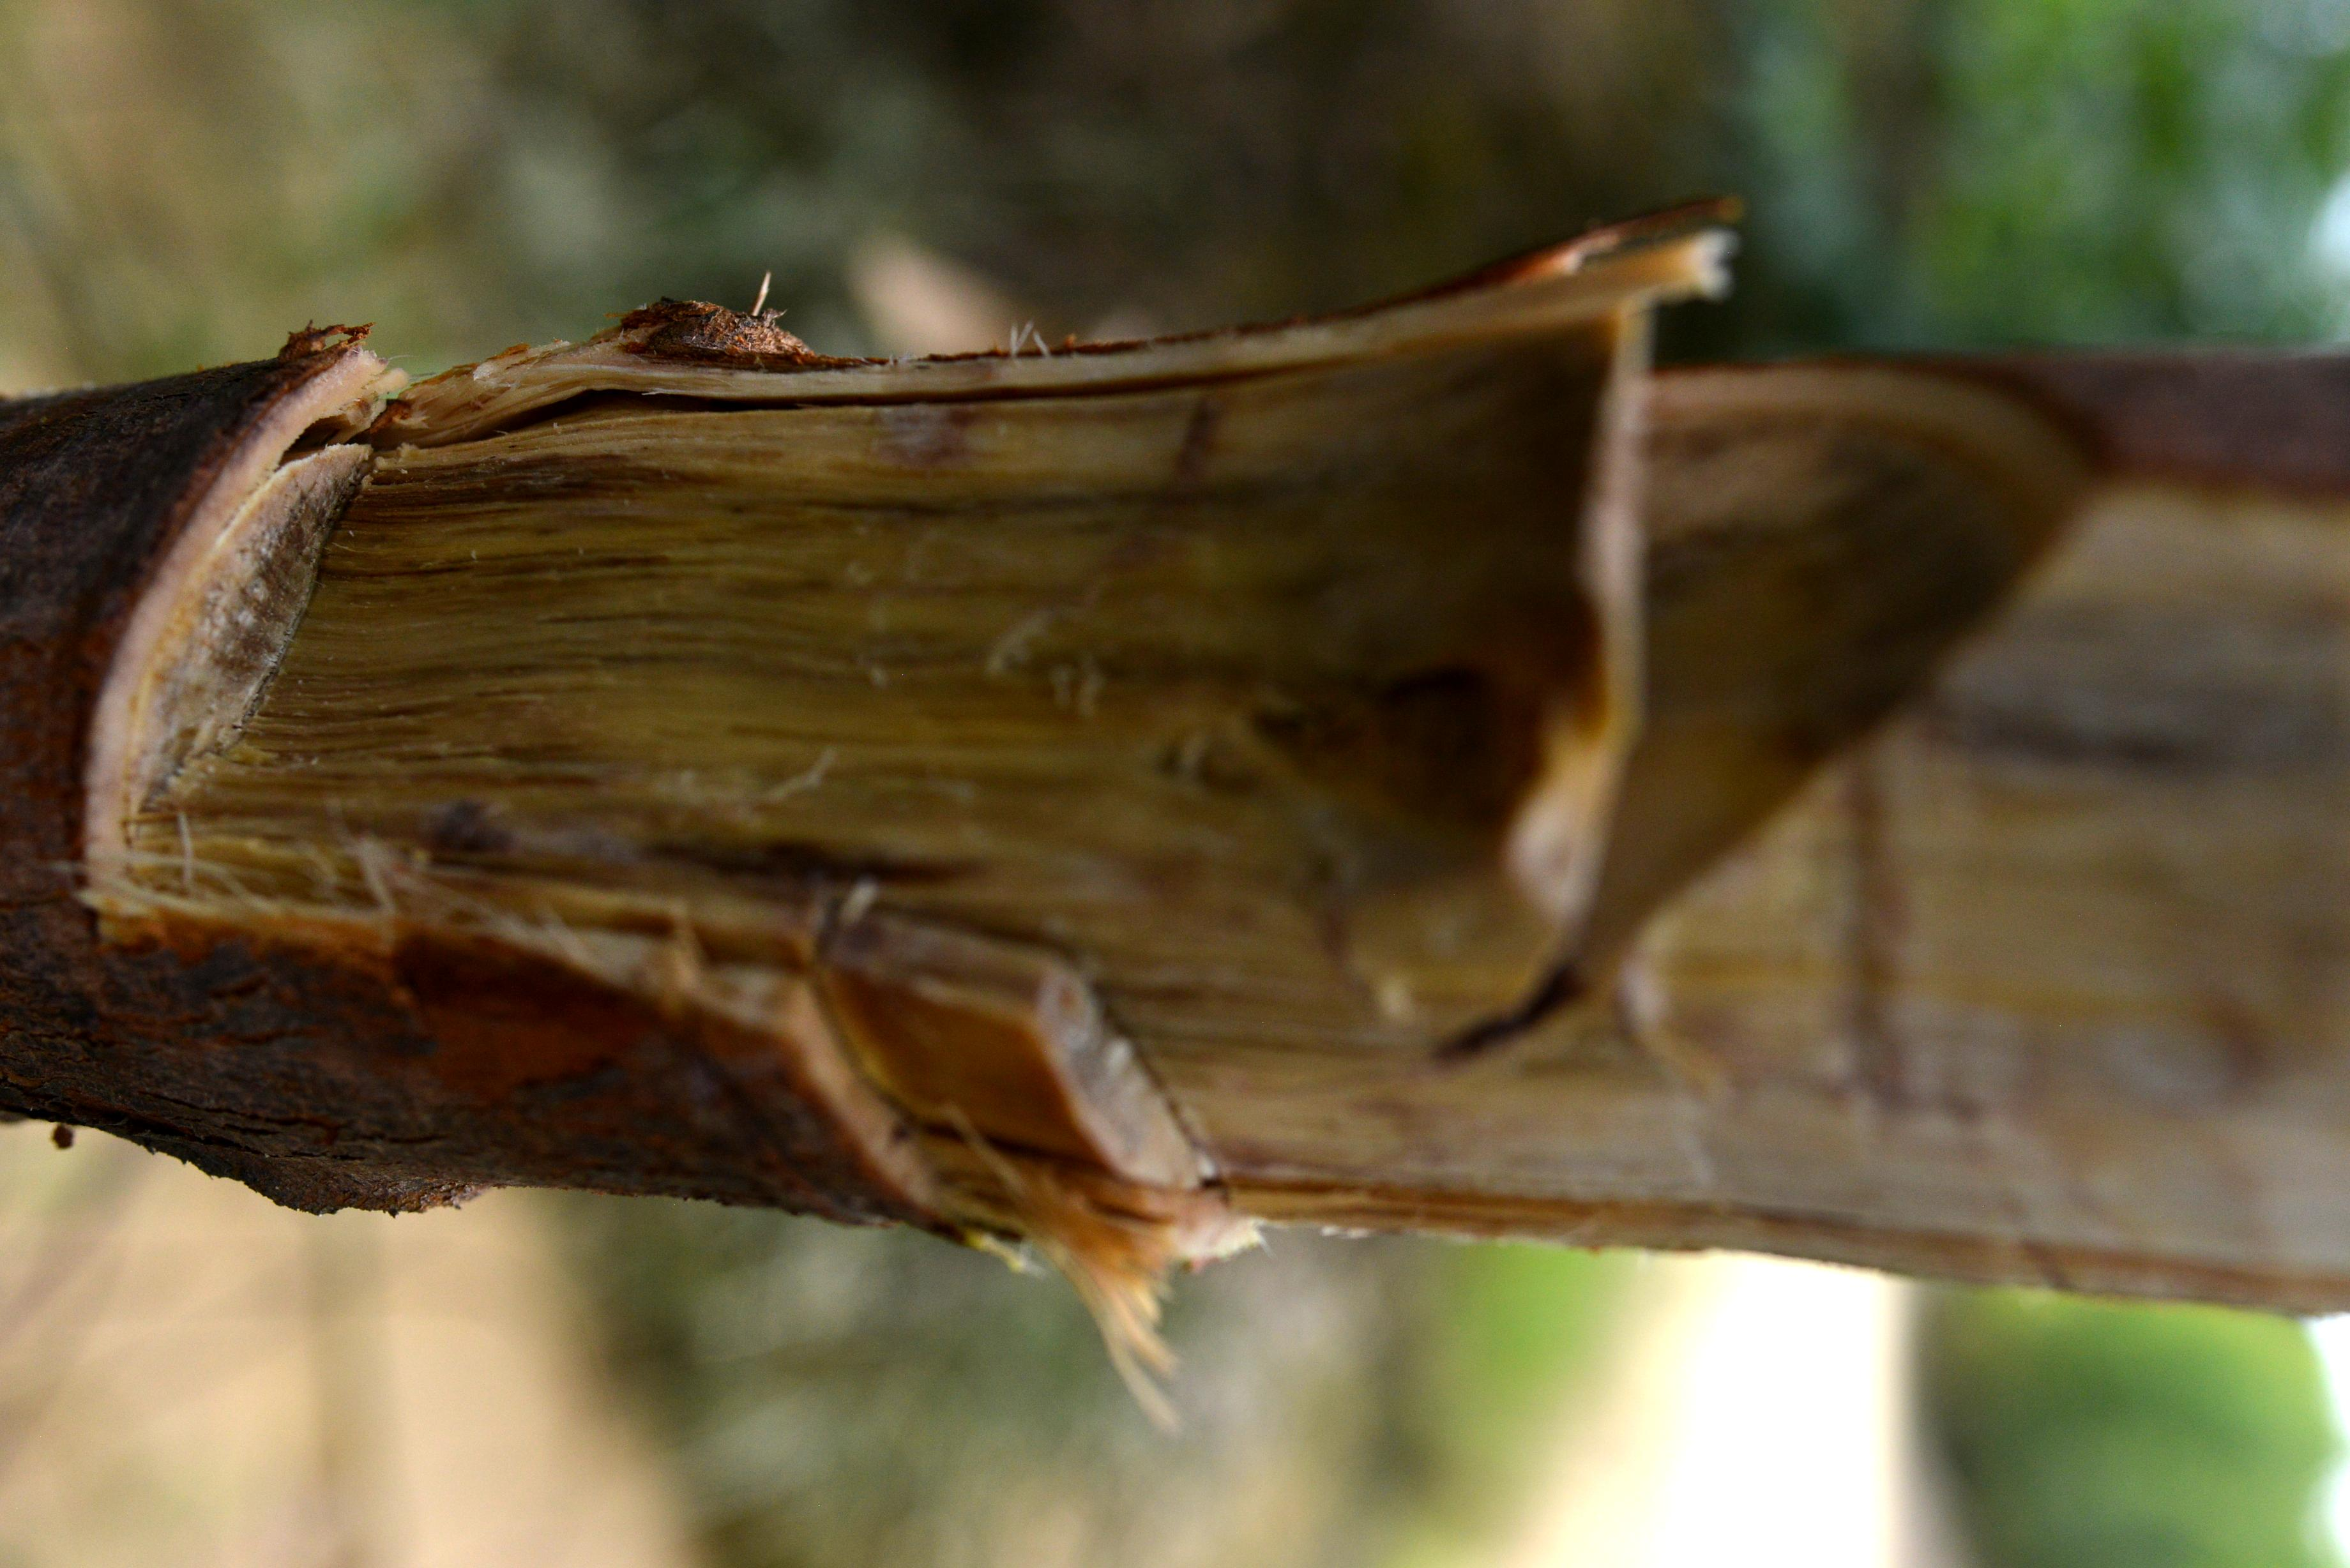Ralstonia: (278, 343, 2322, 1290)
